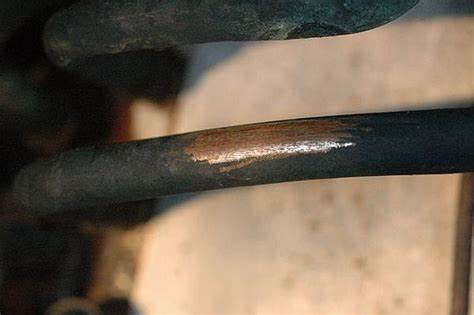Low: (173, 112, 370, 174)
